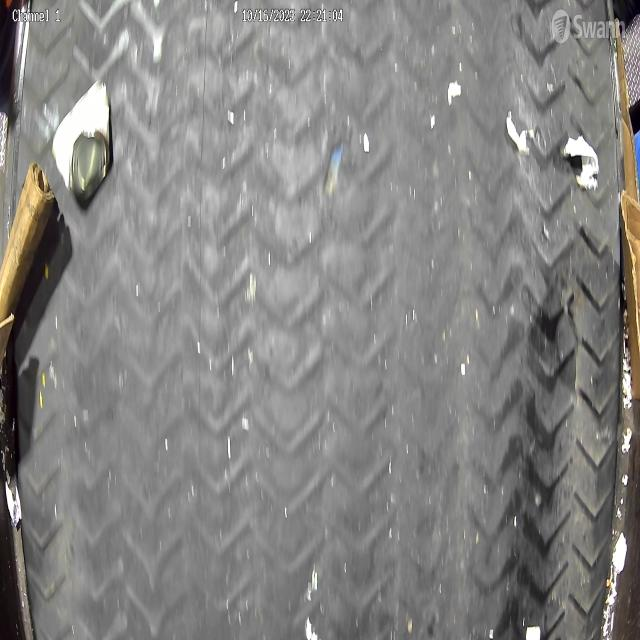can: (53, 79, 111, 201)
